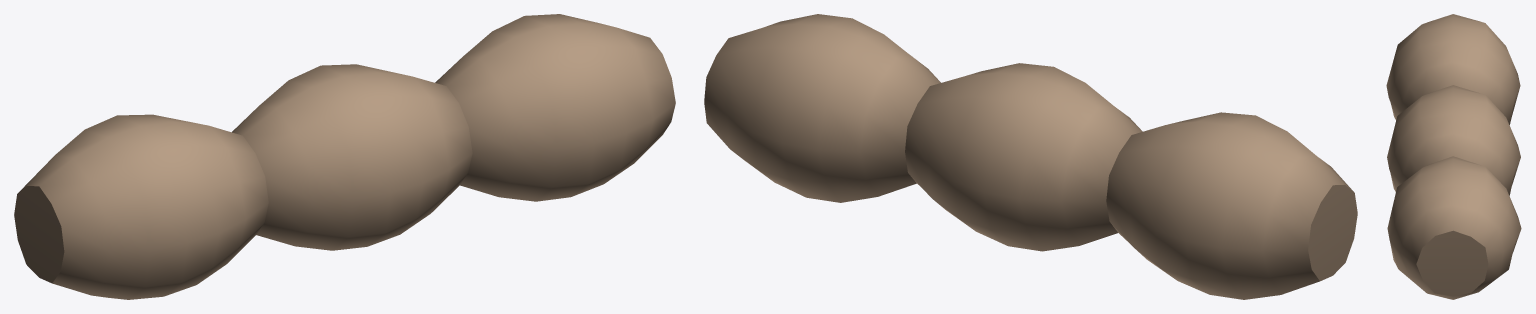
The model's file is bog_lotus_root.glb.
3 renders of one model, left to right at view 1: azimuth 30°, elevation 25°; view 2: azimuth 150°, elevation 25°; view 3: azimuth 270°, elevation 25°, orthographic. The views are drawn at different scales.
Parts seen in each view (by area): view 1: bog_lotus_root; view 2: bog_lotus_root; view 3: bog_lotus_root.
Boxes of the visible parts, x1,y1,x2,y2 form: bog_lotus_root: [14, 14, 675, 299]; bog_lotus_root: [704, 14, 1357, 299]; bog_lotus_root: [1386, 14, 1521, 299].
Size of the model in its own units: 0.15 by 0.04 by 0.04.
